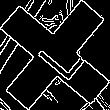L_NW: (26, 27, 84, 83)
